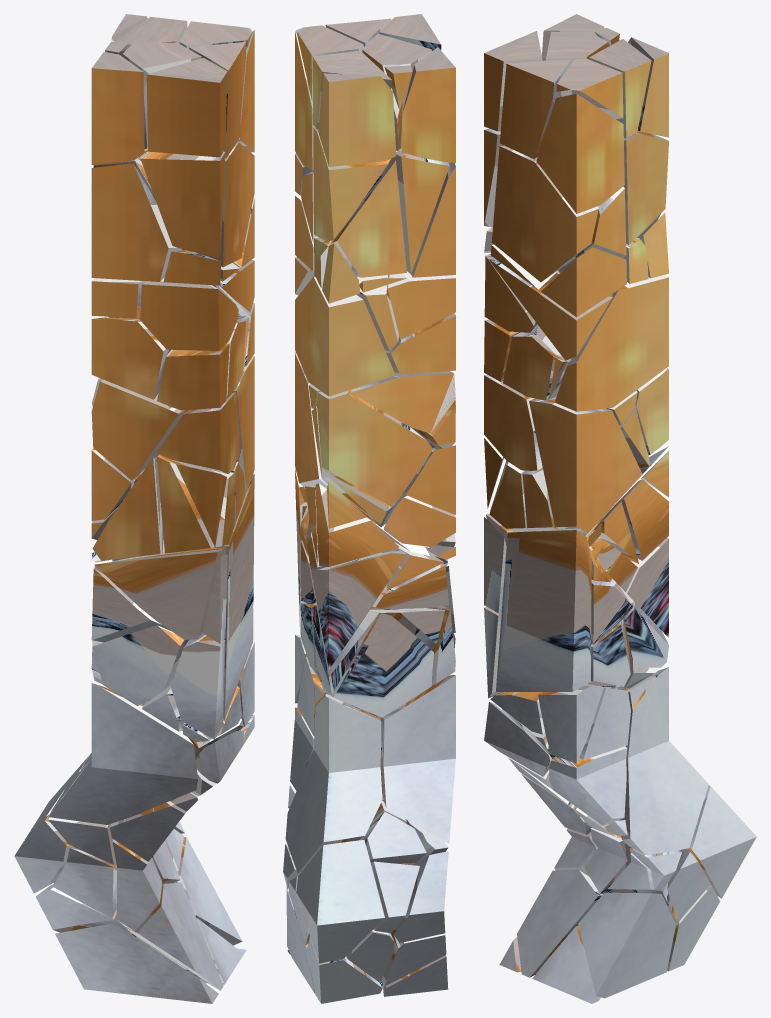
Rendered from cigarette_snubbed_fracture.fbx.
3 views of the same model, side by side, from view 1: azimuth 30°, elevation 25°; view 2: azimuth 150°, elevation 25°; view 3: azimuth 270°, elevation 25° (orthographic).
Visible parts, largest first — view 1: CigaretteSmuged_cell.001, CigaretteSmuged_cell_cell.004, CigaretteSmuged_cell.017, CigaretteSmuged_cell_cell.005, CigaretteSmuged_cell.006_cell.005, CigaretteSmuged_cell_cell.007, CigaretteSmuged_cell.008_cell.007_cell.007, CigaretteSmuged_cell.008_cell.003_cell.006, CigaretteSmuged_cell_cell.001, CigaretteSmuged_cell.006_cell.002, CigaretteSmuged_cell.003, CigaretteSmuged_cell.008_cell.007_cell.001 (+36 smaller); view 2: CigaretteSmuged_cell.005, CigaretteSmuged_cell.001, CigaretteSmuged_cell.008_cell.003_cell.005, CigaretteSmuged_cell.008_cell.001, CigaretteSmuged_cell.014, CigaretteSmuged_cell.011_cell.006, CigaretteSmuged_cell.004_cell, CigaretteSmuged_cell.007_cell, CigaretteSmuged_cell.004_cell.003, CigaretteSmuged_cell_cell.001, CigaretteSmuged_cell.004_cell.004, CigaretteSmuged_cell.008_cell.003_cell.004 (+45 smaller); view 3: CigaretteSmuged_cell.003, CigaretteSmuged_cell.005, CigaretteSmuged_cell.008_cell.006, CigaretteSmuged_cell.008_cell.001, CigaretteSmuged_cell.009_cell.006, CigaretteSmuged_cell.018_cell.005, CigaretteSmuged_cell.009_cell, CigaretteSmuged_cell.013_cell.002, CigaretteSmuged_cell.009_cell.002, CigaretteSmuged_cell.010_cell.002, CigaretteSmuged_cell.014, CigaretteSmuged_cell.004_cell.004 (+44 smaller).
Boxes of the visible parts, box(x1,y1,x2,y2) form: CigaretteSmuged_cell.001: box(48, 683, 197, 824); CigaretteSmuged_cell_cell.004: box(91, 163, 183, 281); CigaretteSmuged_cell.017: box(55, 923, 218, 1003); CigaretteSmuged_cell_cell.005: box(146, 58, 227, 157); CigaretteSmuged_cell.006_cell.005: box(94, 547, 226, 639); CigaretteSmuged_cell_cell.007: box(140, 150, 225, 258); CigaretteSmuged_cell.008_cell.007_cell.007: box(140, 277, 238, 350); CigaretteSmuged_cell.008_cell.003_cell.006: box(91, 379, 189, 480); CigaretteSmuged_cell_cell.001: box(91, 51, 144, 164); CigaretteSmuged_cell.006_cell.002: box(93, 625, 185, 705); CigaretteSmuged_cell.003: box(213, 474, 254, 719); CigaretteSmuged_cell.008_cell.007_cell.001: box(91, 317, 169, 399); CigaretteSmuged_cell.005: box(285, 693, 382, 873); CigaretteSmuged_cell.001: box(380, 674, 455, 843); CigaretteSmuged_cell.008_cell.003_cell.005: box(317, 389, 432, 506); CigaretteSmuged_cell.008_cell.001: box(295, 275, 395, 396); CigaretteSmuged_cell.014: box(296, 840, 384, 963); CigaretteSmuged_cell.011_cell.006: box(316, 613, 433, 717); CigaretteSmuged_cell.004_cell: box(318, 73, 396, 166); CigaretteSmuged_cell.007_cell: box(313, 550, 406, 669); CigaretteSmuged_cell.004_cell.003: box(331, 160, 406, 277); CigaretteSmuged_cell_cell.001: box(402, 47, 455, 163); CigaretteSmuged_cell.004_cell.004: box(313, 127, 390, 241); CigaretteSmuged_cell.008_cell.003_cell.004: box(350, 373, 455, 433); CigaretteSmuged_cell.003: box(496, 530, 591, 691); CigaretteSmuged_cell.005: box(619, 667, 708, 854); CigaretteSmuged_cell.008_cell.006: box(529, 397, 642, 535); CigaretteSmuged_cell.008_cell.001: box(554, 275, 668, 411); CigaretteSmuged_cell.009_cell.006: box(491, 145, 598, 282); CigaretteSmuged_cell.018_cell.005: box(578, 892, 675, 998); CigaretteSmuged_cell.009_cell: box(536, 93, 624, 213); CigaretteSmuged_cell.013_cell.002: box(517, 870, 603, 977); CigaretteSmuged_cell.009_cell.002: box(499, 59, 570, 158); CigaretteSmuged_cell.010_cell.002: box(549, 746, 627, 825); CigaretteSmuged_cell.014: box(686, 785, 756, 898); CigaretteSmuged_cell.004_cell.004: box(623, 130, 668, 244).
Bounding box in the file's own units: 12.57 × 56.92 × 15.44.
Materials: 1 (1 with a texture image).
